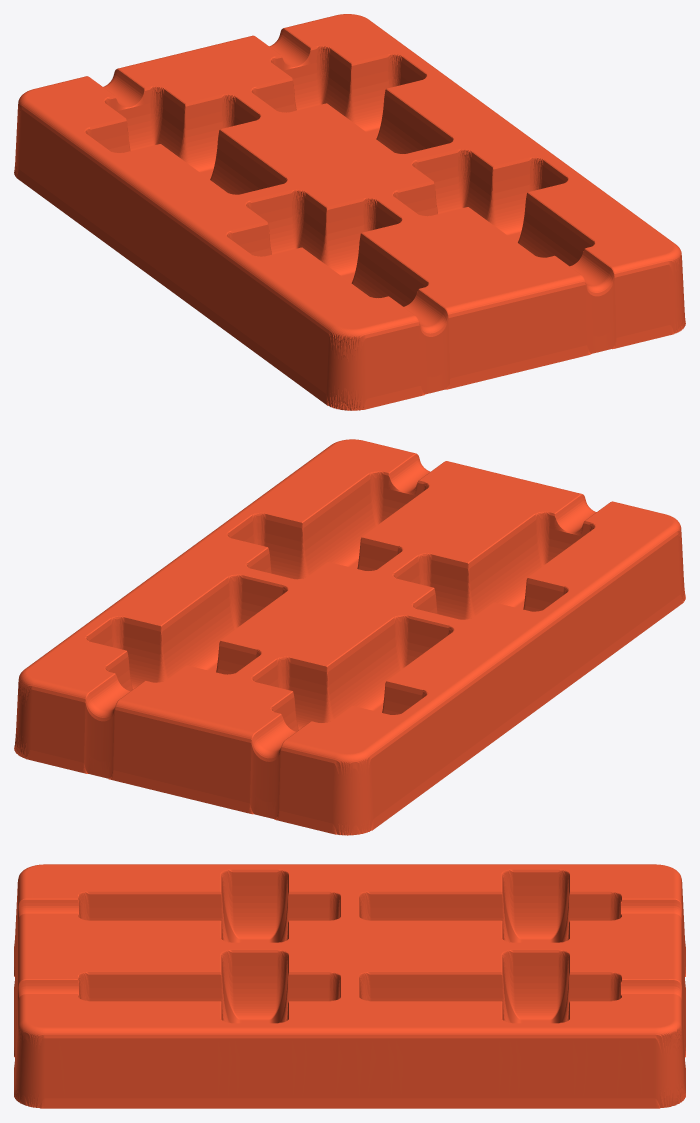
File: mold.glb
3 renders of one model, top to bottom at view 1: azimuth 30°, elevation 25°; view 2: azimuth 150°, elevation 25°; view 3: azimuth 270°, elevation 25°, orthographic.
Parts seen in each view (by area): view 1: geometry_0; view 2: geometry_0; view 3: geometry_0.
Part boxes in pixels (bbox=[...]): geometry_0: bbox=[14, 14, 685, 410]; geometry_0: bbox=[14, 439, 685, 835]; geometry_0: bbox=[14, 864, 685, 1108].
Bounding box in the file's own units: 0.1197 × 0.0245 × 0.1968.
